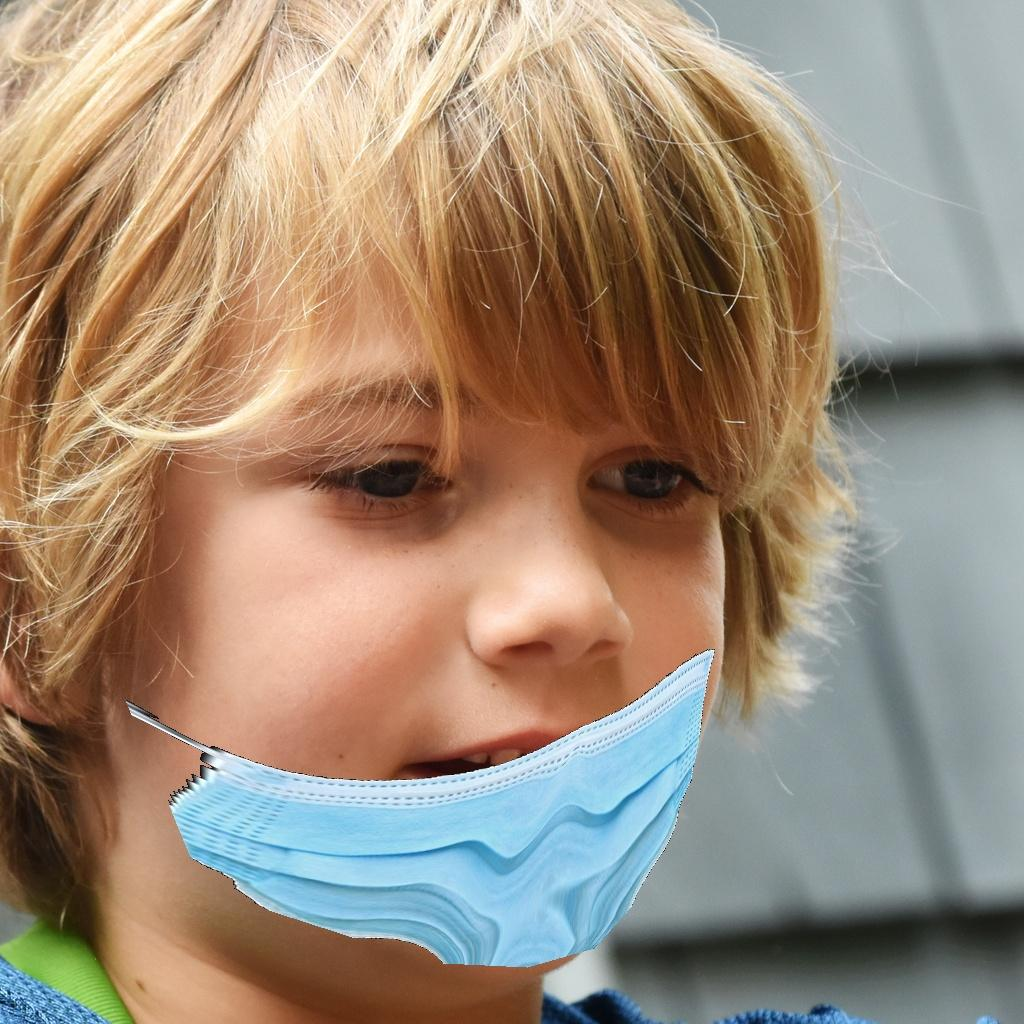Máscara Incorreta: (138, 328, 683, 915)
